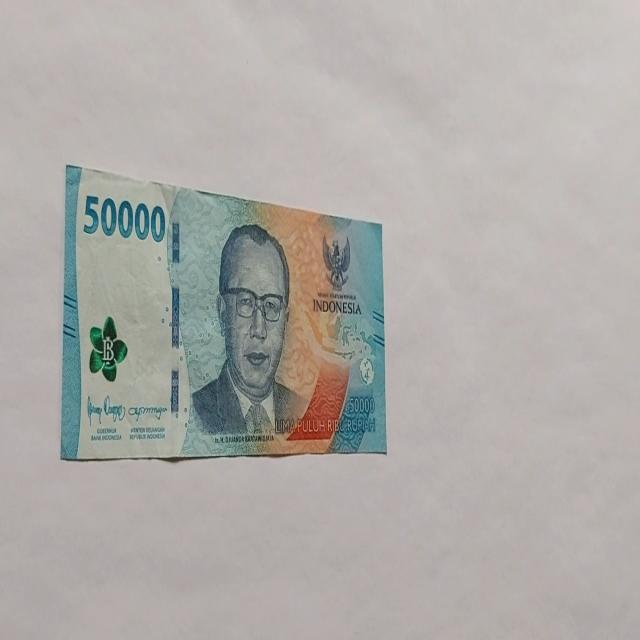lima puluh ribu rupiah: (61, 162, 387, 462), (188, 221, 312, 442)
